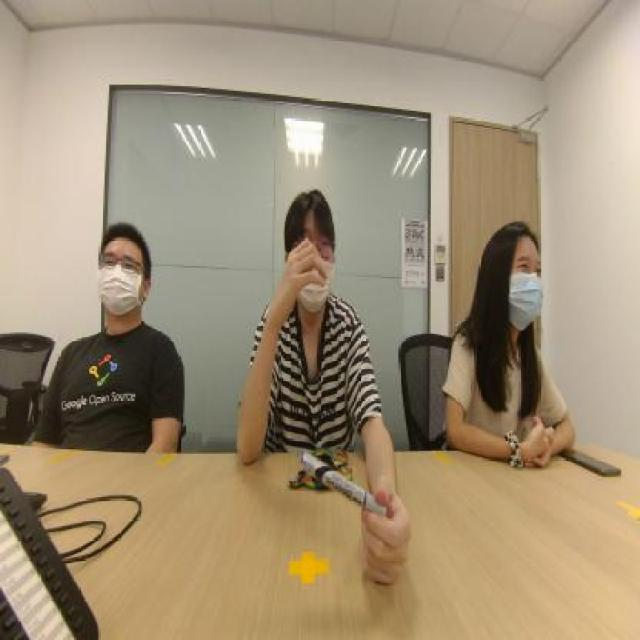Person: (249, 133, 394, 444), (22, 203, 187, 437), (433, 160, 555, 422)
